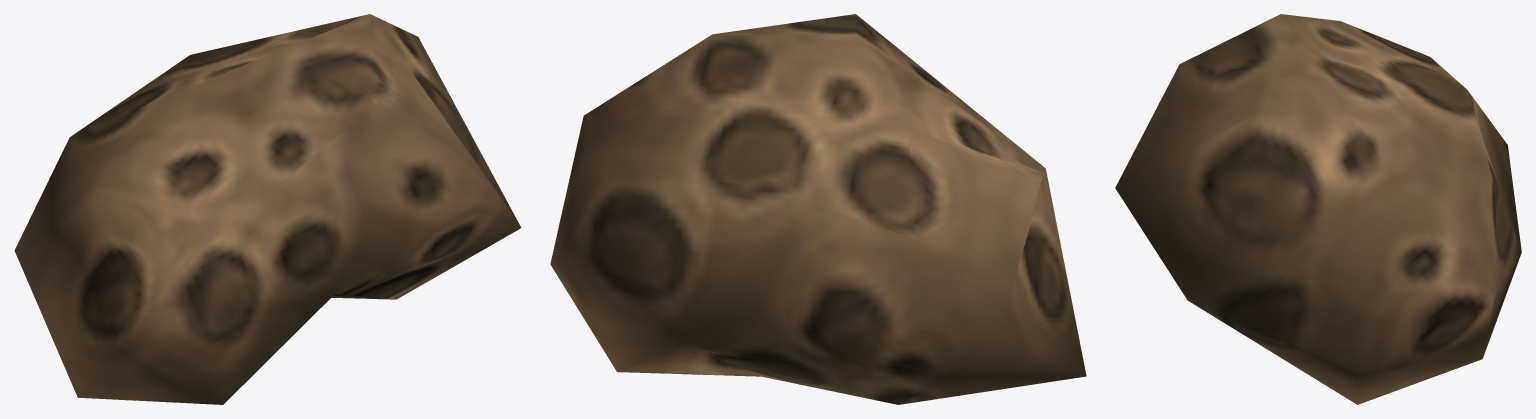
The model's file is Asteroid_05.FBX.
The picture shows the model from 3 angles, left to right: view 1: azimuth 30°, elevation 25°; view 2: azimuth 150°, elevation 25°; view 3: azimuth 270°, elevation 25°; orthographic projection. The views are drawn at different scales.
Parts seen in each view (by area): view 1: Asteroid_05; view 2: Asteroid_05; view 3: Asteroid_05.
Part boxes in pixels (<box>): Asteroid_05: <box>14,14,521,404</box>; Asteroid_05: <box>550,14,1086,404</box>; Asteroid_05: <box>1115,14,1521,404</box>.
Bounding box in the file's own units: 82.21 × 64.95 × 56.62.
